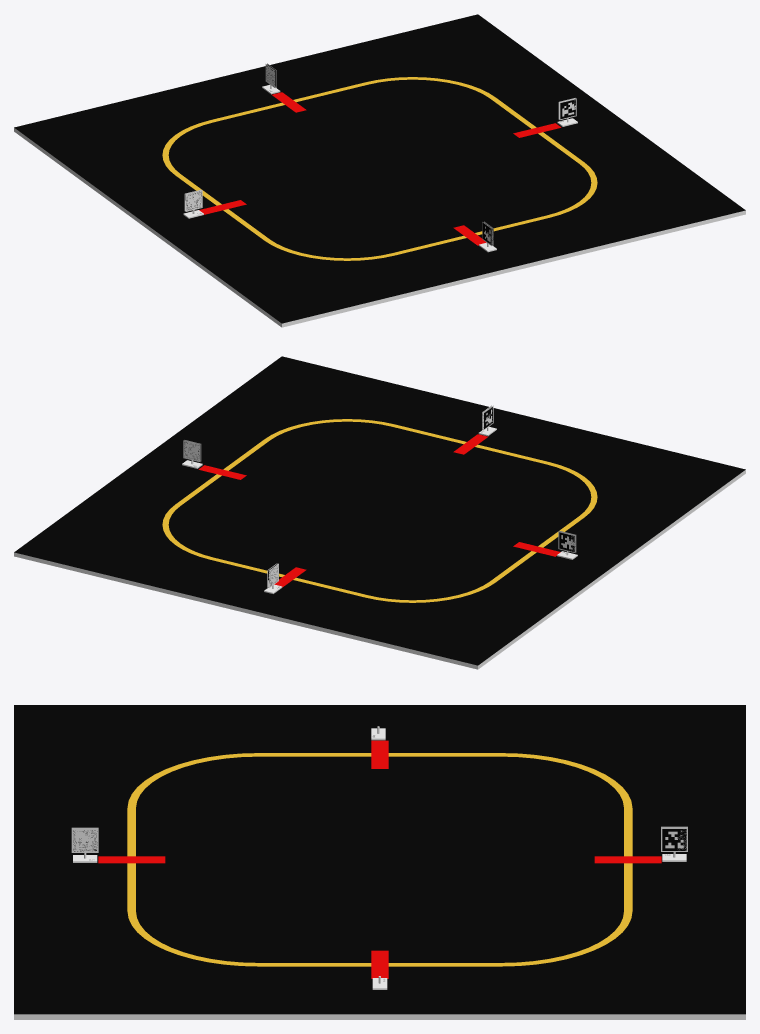
3 views of the same model, one above another, from view 1: azimuth 30°, elevation 25°; view 2: azimuth 150°, elevation 25°; view 3: azimuth 270°, elevation 25° (orthographic). The views are drawn at different scales.
Parts seen in each view (by area): view 1: SketchUp (×7); view 2: SketchUp (×7); view 3: SketchUp (×9).
Part boxes in pixels (left/top/right/bottom): SketchUp (×7): left=14, top=14, right=745, bottom=327; SketchUp (×7): left=14, top=356, right=745, bottom=669; SketchUp (×9): left=14, top=705, right=745, bottom=1019.
Bounding box in the file's own units: 236 × 236 × 13.33.
